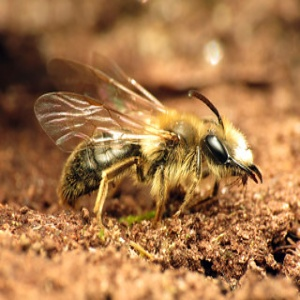bee: (38, 54, 264, 222)
